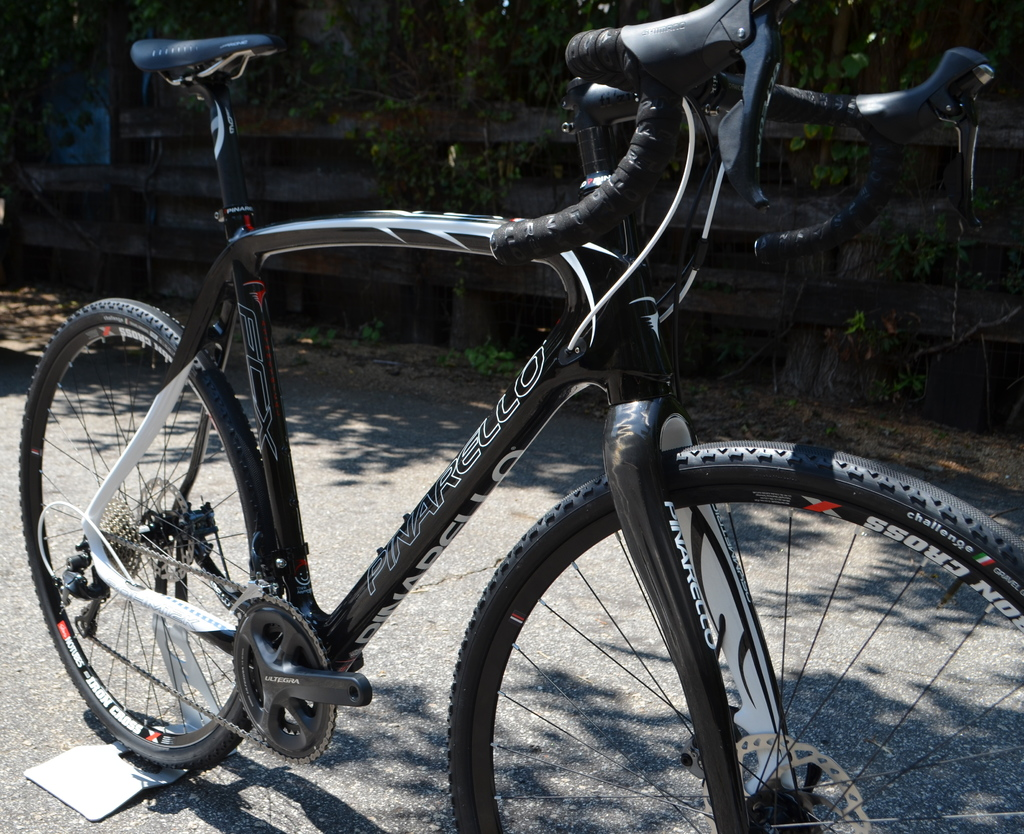Bike_toward: (38, 25, 984, 830)
